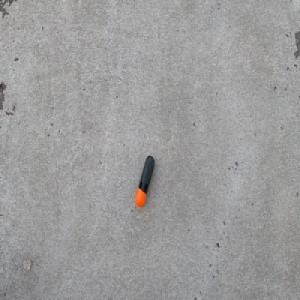PlasticPart: (134, 154, 154, 208)
